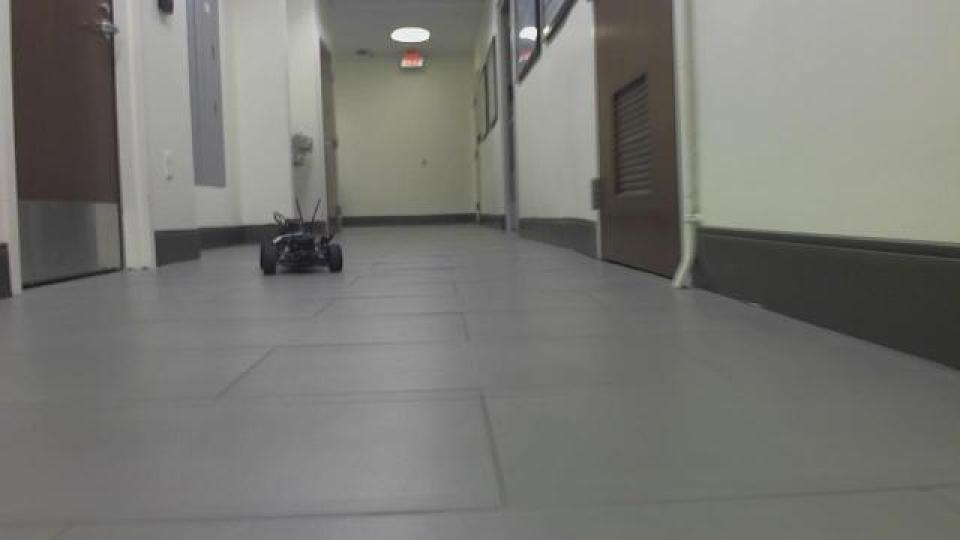car: (255, 195, 347, 279)
